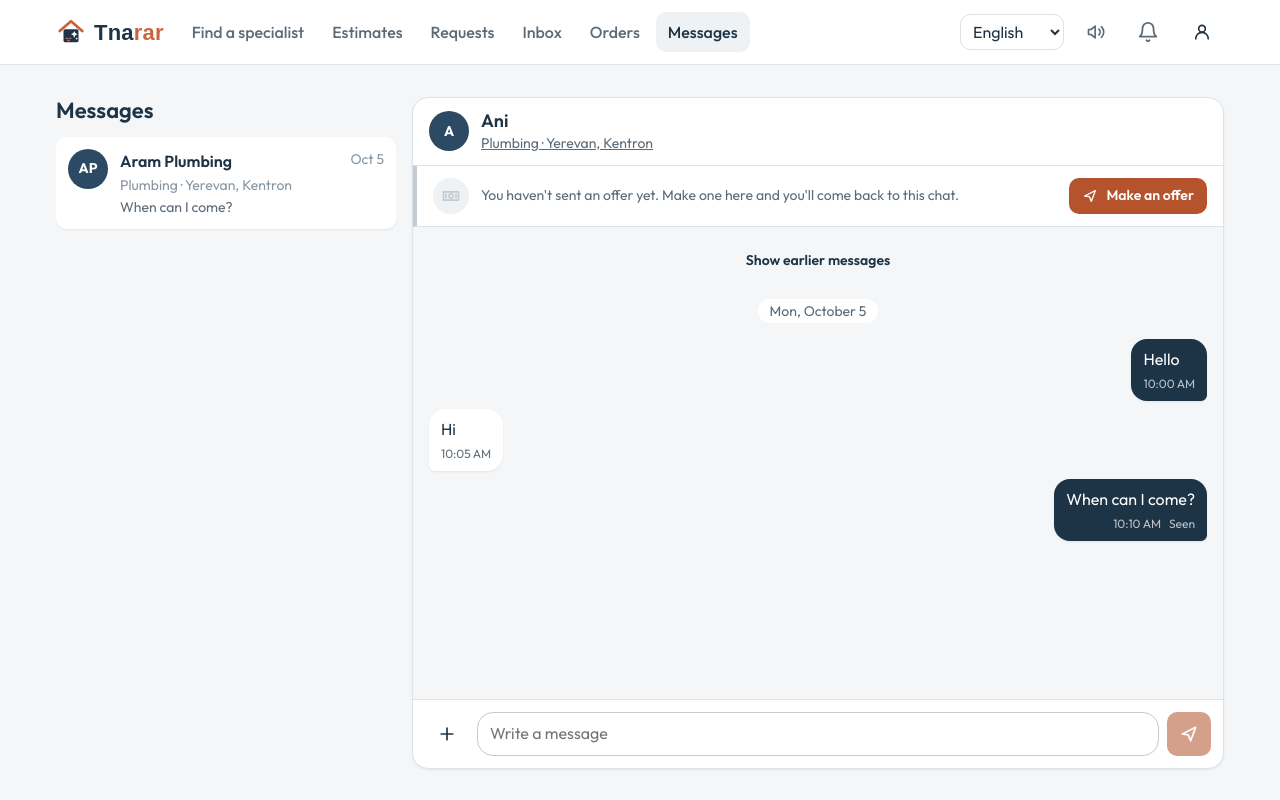
Test: Messages › shows read receipts on my last message and loads earlier messages
Expected: the text "Seen" is shown once, [1169,515,1195,533]
Click the button "Show earlier messages" at (818, 261), box [733,243,903,279]
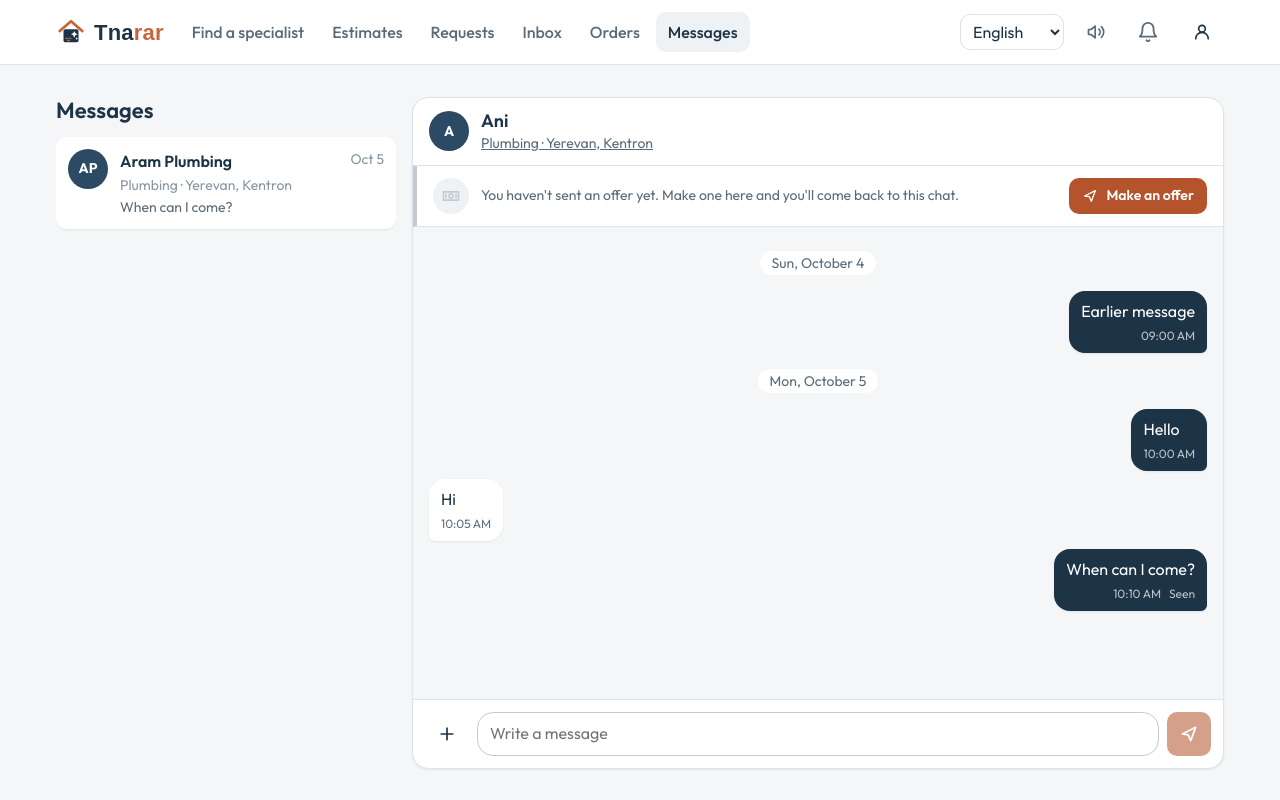
Expected: the text "Earlier message" is shown, [1081,299,1195,323]
Expected: the button "Show earlier messages" is gone
